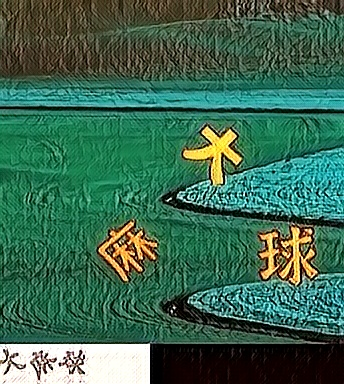B4F3: (182, 126, 242, 190)
C2E9: (98, 219, 158, 283)
C7F2: (257, 222, 317, 286)
